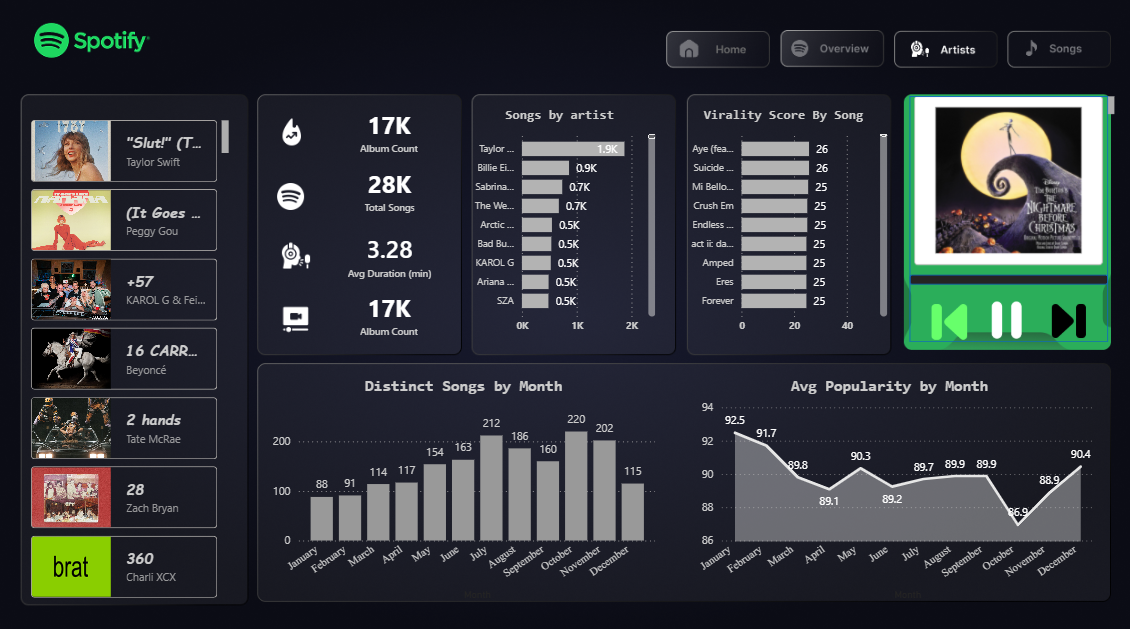

The dashboard page shown, as its layout file describes it:
{"tool":"powerbi","page":{"name":"Artists","canvas":[1280,720],"ordinal":2},"visuals":[{"type":"image","box":[10,0,1270,720],"z":0},{"type":"actionButton","box":[747.2,37.6,123.3,46.7],"z":0,"group":"g3"},{"type":"actionButton","box":[883.5,38.3,115,46.7],"z":1000,"group":"g3"},{"type":"group","id":"g1","title":"Group 1","box":[322,106,228,304],"z":1000},{"type":"image","box":[322,140.8,49.7,29.8],"z":1000,"group":"g1"},{"type":"actionButton","box":[1012.2,38.7,111.7,43.3],"z":2000,"group":"g3"},{"type":"clusteredBarChart","title":"Songs by artist","fields":{"Y":["Measures_.Total Songs"],"Category":["Spotify.artist"]},"box":[527.5,127.5,222.5,260],"z":2000},{"type":"image","box":[322,278.3,49.7,31.5],"z":2000,"group":"g1"},{"type":"actionButton","box":[1141.6,43.4,100,40],"z":3000,"group":"g3"},{"type":"clusteredBarChart","title":"Virality Score By Song","fields":{"Category":["Spotify.song"],"Y":["Measures_.Virality Score"]},"box":[767.5,127.5,240,260],"z":3000},{"type":"image","box":[322,212,38.1,29.8],"z":3000,"group":"g1"},{"type":"advancedSlicerVisual","fields":{"Values":["Spotify.song"],"Label":["Min(Spotify.artist)"]},"box":[47.2,137.7,230.2,543.4],"z":4000},{"type":"image","box":[322,347.8,49.7,33.1],"z":4000,"group":"g1"},{"type":"cardVisual","fields":{"Data":["Measures_.Avg Duration (min)"]},"box":[361.8,243.5,178.9,102.7],"z":5000,"group":"g1"},{"type":"columnChart","fields":{"Category":["Spotify.date.Variation.Date Hierarchy.Month"],"Y":["Measures_.Distinct Songs"]},"box":[315.1,424.5,435.8,256.6],"z":5000},{"type":"cardVisual","fields":{"Data":["Measures_.Album Count"]},"box":[350.2,106,200.4,99.4],"z":6000,"group":"g1"},{"type":"areaChart","fields":{"Category":["Spotify.date.Variation.Date Hierarchy.Month"],"Y":["Measures_.Avg Popularity"]},"box":[775.5,424.5,462.3,256.6],"z":6000},{"type":"group","id":"g2","title":"Group 2","box":[1028.3,111.3,234,279.2],"z":7000},{"type":"cardVisual","fields":{"Data":["Measures_.Total Songs"]},"box":[351.8,170.6,198.8,99.4],"z":7000,"group":"g1"},{"type":"shape","box":[1028.3,117,220.8,273.6],"z":7001},{"type":"group","id":"g3","title":"Group 1","box":[747.2,37.6,494.4,47.4],"z":7002},{"type":"cardVisual","fields":{"Data":["Measures_.Album Count"]},"box":[350.2,309.7,200.4,99.4],"z":8000,"group":"g1"},{"type":"advancedSlicerVisual","fields":{"Values":["Spotify.album_cover_url"]},"box":[1028.3,111.3,234,198.1],"z":11000,"group":"g2"},{"type":"image","box":[1171.7,345.3,67.9,43.4],"z":12000,"group":"g2"},{"type":"image","box":[1035.8,345.3,71.7,45.3],"z":13000,"group":"g2"},{"type":"image","box":[1101.9,345.3,69.8,41.5],"z":14000,"group":"g2"},{"type":"shape","box":[1028.3,315.1,220.8,11.3],"z":15000,"group":"g2"}]}

Visuals, with their boxes in screenshot pixels (x1, y1, x2, y2), scaled from the page's 1280x720 canvas onto the 1130x629 screenshot:
image: 9,0,1129,628
actionButton: 660,33,768,74
actionButton: 780,33,881,74
"Group 1" group: 284,93,486,358
image: 284,123,328,149
actionButton: 894,34,992,72
"Songs by artist" clusteredBarChart: 466,111,662,339
image: 284,243,328,271
actionButton: 1008,38,1096,73
"Virality Score By Song" clusteredBarChart: 678,111,889,339
image: 284,185,318,211
advancedSlicerVisual - Spotify.song x Min(Spotify.artist): 42,120,245,595
image: 284,304,328,333
cardVisual - Measures_.Avg Duration (min): 319,213,477,302
columnChart - Spotify.date.Variation.Date Hierarchy.Month x Measures_.Distinct Songs: 278,371,663,595
cardVisual - Measures_.Album Count: 309,93,486,179
areaChart - Spotify.date.Variation.Date Hierarchy.Month x Measures_.Avg Popularity: 685,371,1093,595
"Group 2" group: 908,97,1114,341
cardVisual - Measures_.Total Songs: 311,149,486,236
shape: 908,102,1103,341
"Group 1" group: 660,33,1096,74
cardVisual - Measures_.Album Count: 309,271,486,357
advancedSlicerVisual - Spotify.album_cover_url: 908,97,1114,270
image: 1034,302,1094,340
image: 914,302,978,341
image: 973,302,1034,338
shape: 908,275,1103,285
